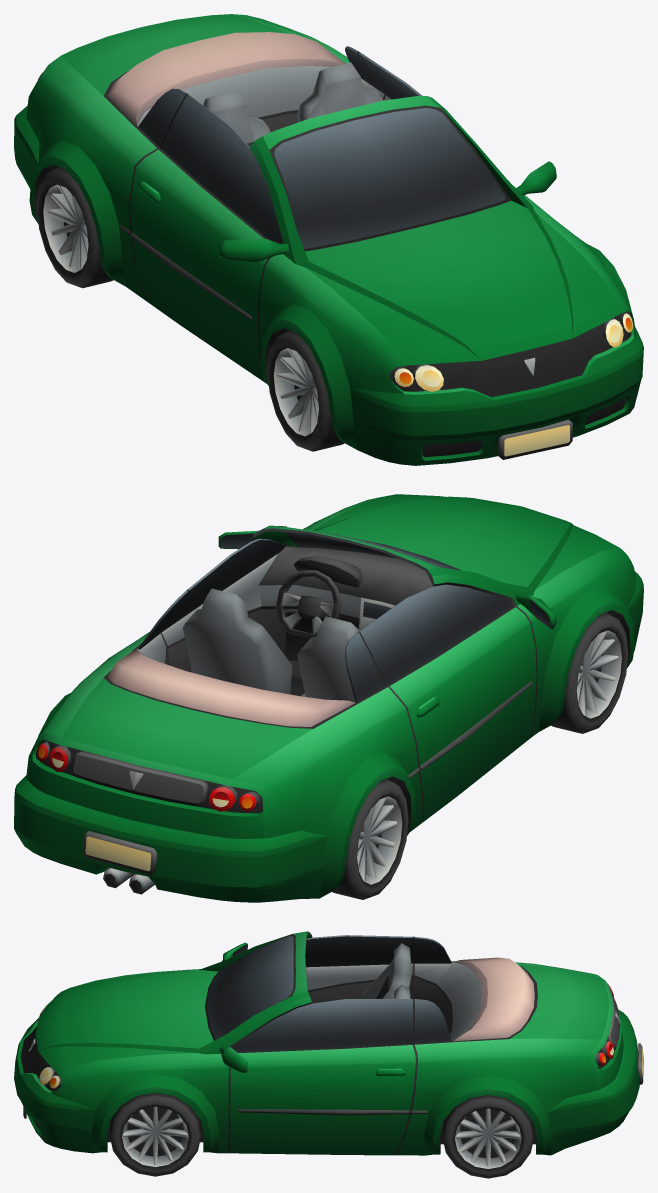
File: VHC0110003.FBX
3 renders of one model, top to bottom at view 1: azimuth 30°, elevation 25°; view 2: azimuth 150°, elevation 25°; view 3: azimuth 270°, elevation 25°, orthographic. The views are drawn at different scales.
Parts seen in each view (by area): view 1: smVHC0110003; view 2: smVHC0110003; view 3: smVHC0110003.
Boxes of the visible parts, x1,y1,x2,y2 form: smVHC0110003: [14, 14, 643, 465]; smVHC0110003: [14, 494, 643, 902]; smVHC0110003: [14, 931, 643, 1178].
Bounding box in the file's own units: 1.68 × 1.09 × 3.67.
1 material, 1 textured.
